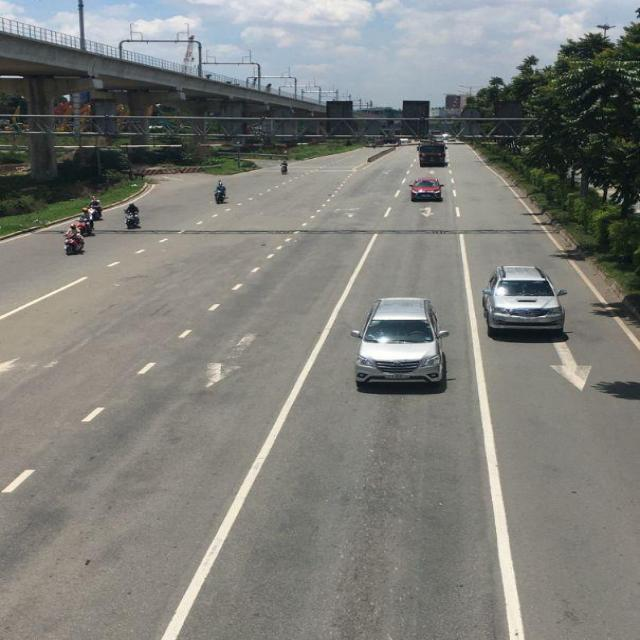car: (352, 295, 452, 393), (481, 264, 569, 339), (409, 178, 444, 203)
motorcycle: (64, 227, 84, 253), (214, 182, 228, 205), (280, 160, 287, 175)
truck: (420, 145, 448, 170)
